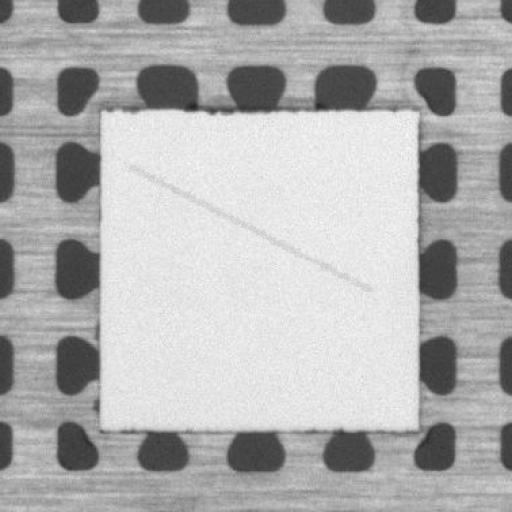DIE_CRACK: (130, 164, 371, 286)
